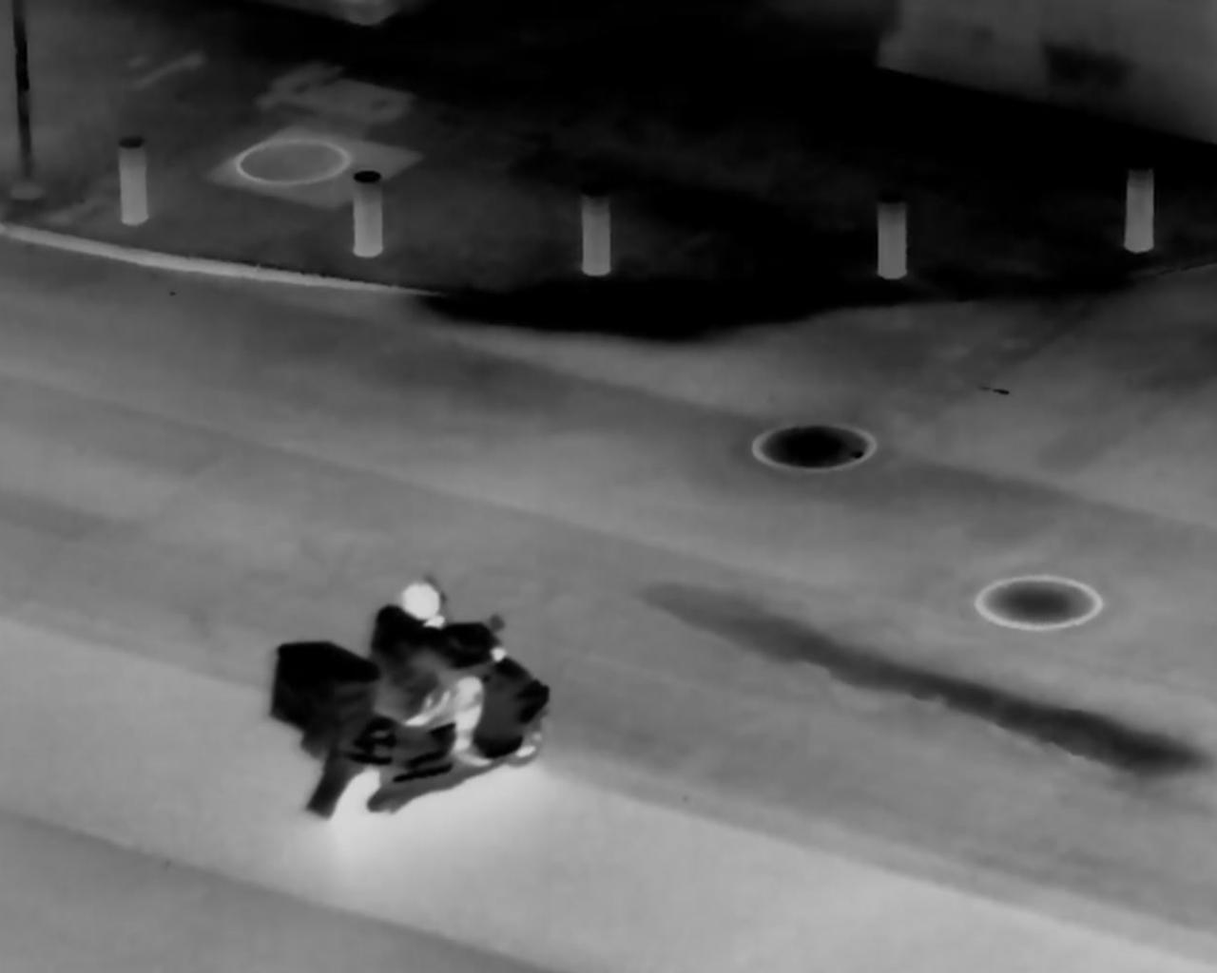person: (352, 570, 482, 779)
